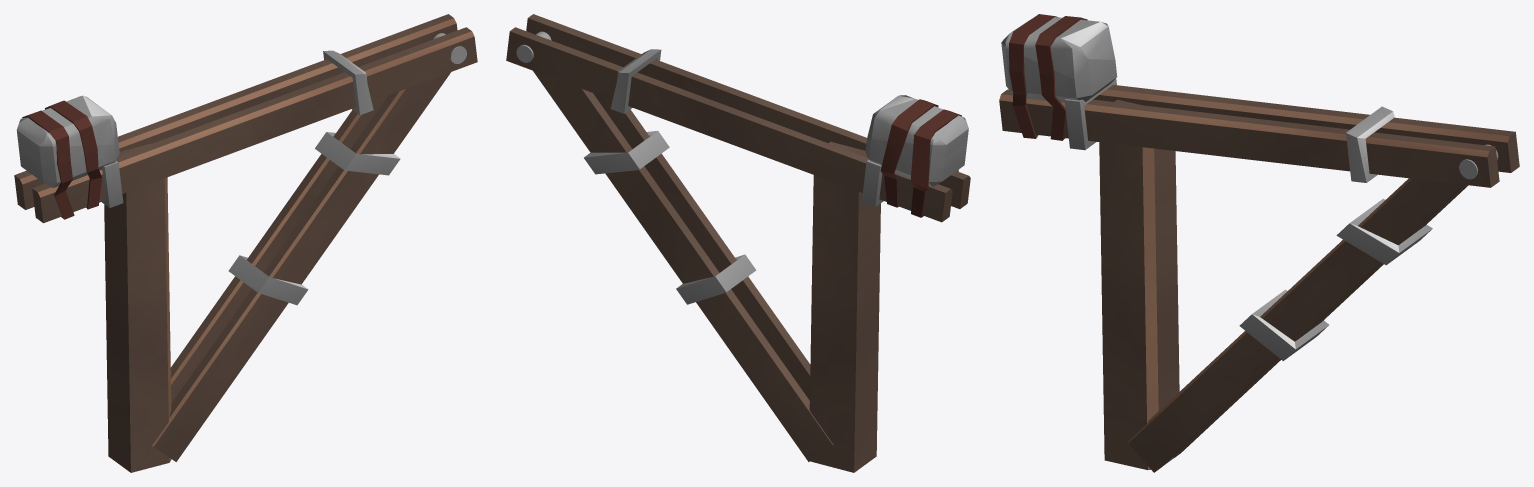
The picture shows the model from 3 angles, left to right: view 1: azimuth 30°, elevation 25°; view 2: azimuth 150°, elevation 25°; view 3: azimuth 330°, elevation 25°; orthographic projection. The views are drawn at different scales.
Visible parts, largest first — view 1: winch1; view 2: winch1; view 3: winch1.
Part boxes in pixels (x1,y1,x2,y2): winch1: (14, 14, 477, 472); winch1: (506, 14, 970, 472); winch1: (999, 14, 1519, 472).
Bounding box in the file's own units: 4.85 × 3.89 × 0.7259.
